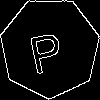P: (24, 23, 66, 75)
